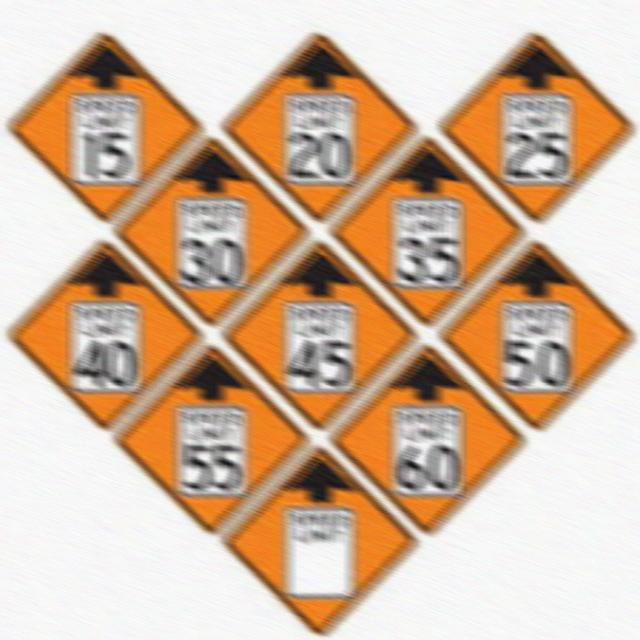speedLimit35: (391, 198, 459, 286)
